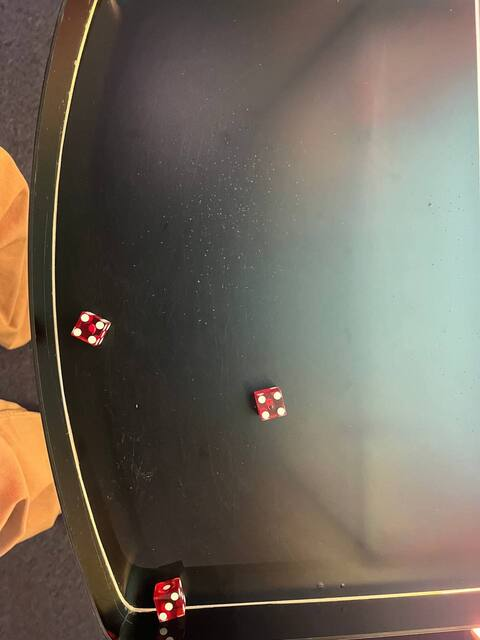four: (69, 309, 106, 346), (253, 388, 290, 425)
three: (152, 591, 185, 624)
